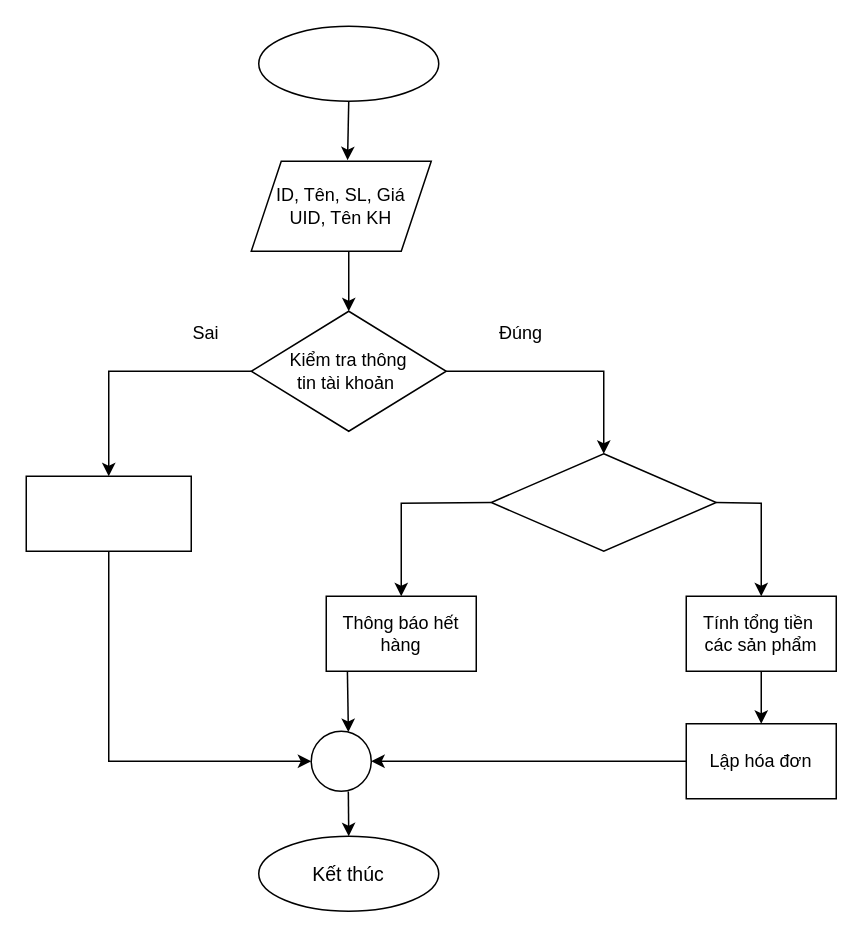
Image size: 863x938. Some labels were removed from this diagram. Here are the shapes that lost their labels. From the top down, the centre of each, then its label:
At (x=348, y=63): "Bắt đầu".
At (x=108, y=513): "Thông báo yêu cầu đăng nhập".
At (x=603, y=501): "Kiểm tra số lượng sản phẩm".
